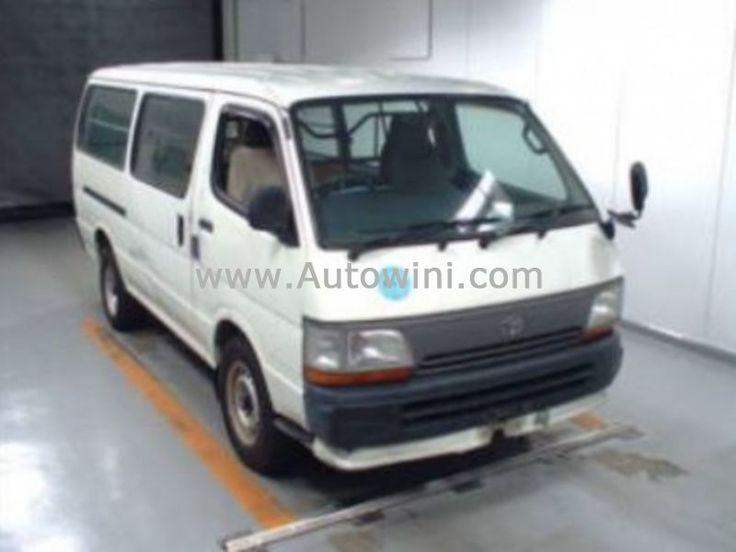van: (69, 59, 652, 470)
